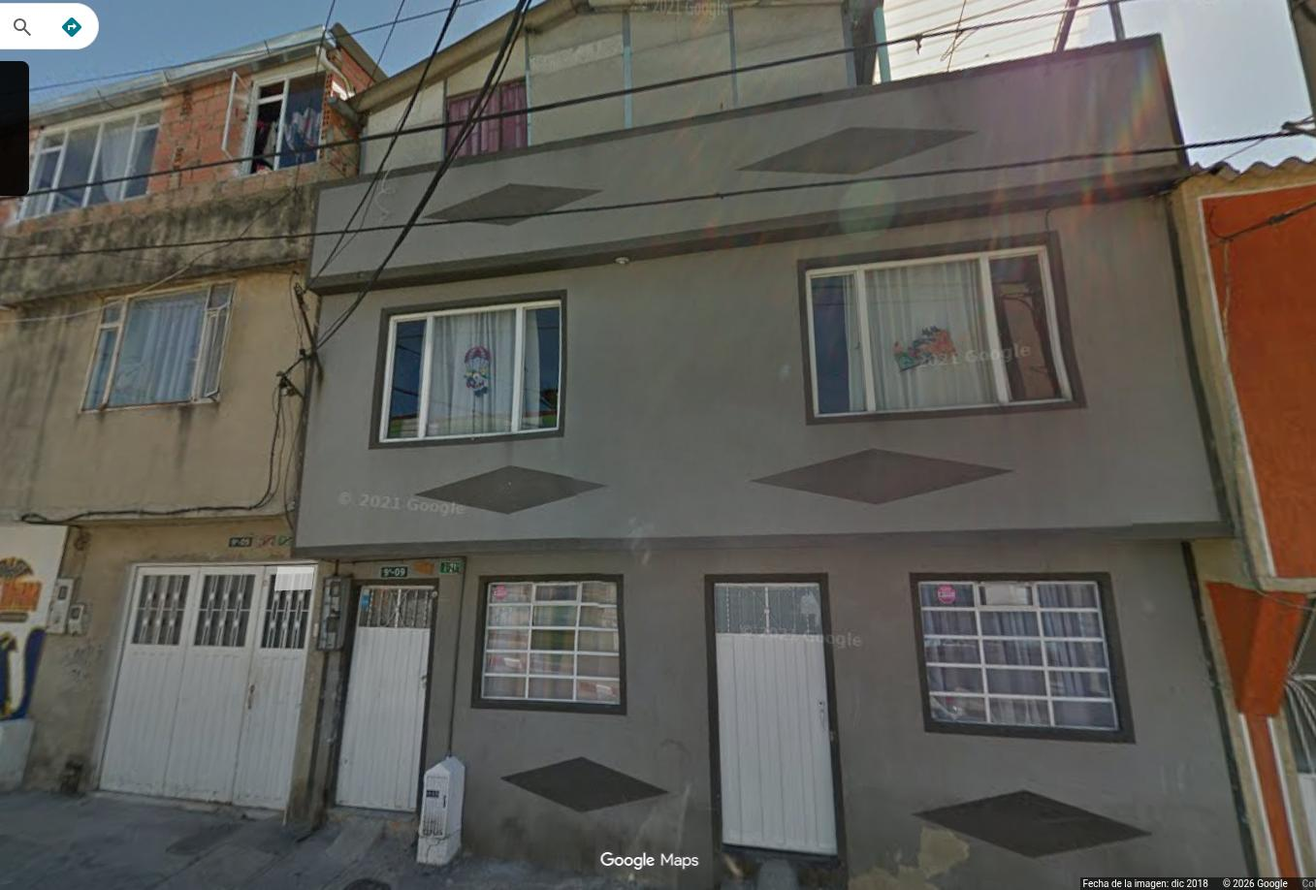casa: (296, 38, 1248, 889), (0, 25, 382, 808)
